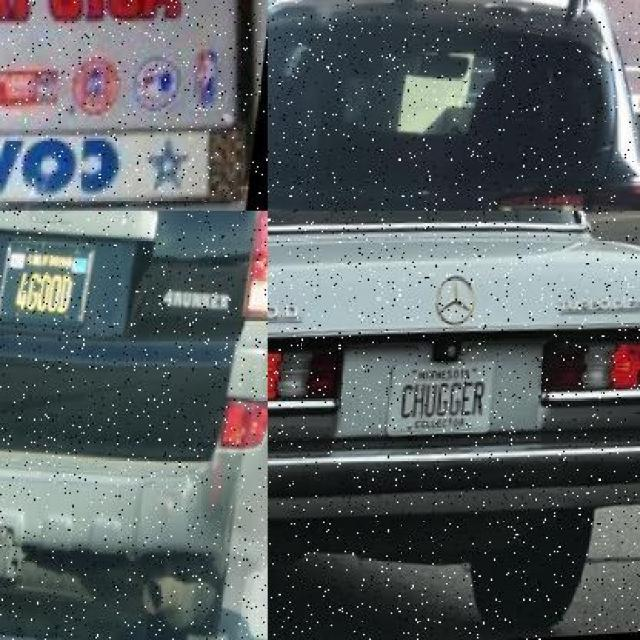LicensePlate: (0, 0, 258, 86), (2, 226, 96, 328), (388, 364, 499, 438)
